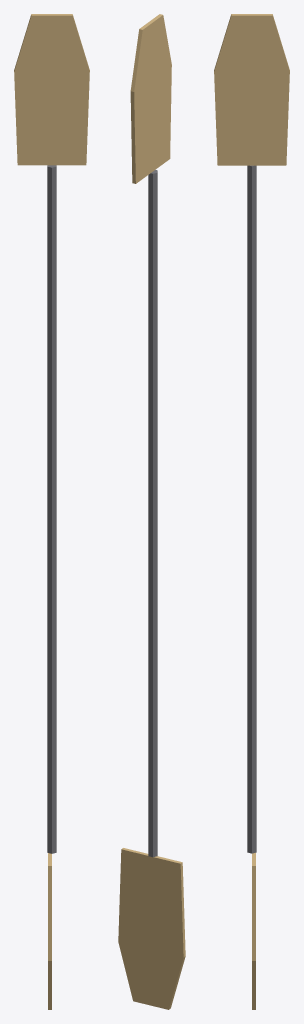
Rendered from paddledouble.glb.
3 views of the same model, side by side, from view 1: azimuth 90°, elevation 25°; view 2: azimuth 150°, elevation 25°; view 3: azimuth 270°, elevation 25° (orthographic).
Parts seen in each view (by area): view 1: PaddleDouble_blade.001, PaddleDouble_shaft, PaddleDouble_blade; view 2: PaddleDouble_blade, PaddleDouble_shaft, PaddleDouble_blade.001; view 3: PaddleDouble_blade.001, PaddleDouble_shaft, PaddleDouble_blade.
Part boxes in pixels (x1,y1,x2,y2): PaddleDouble_blade.001: (14,14,89,165); PaddleDouble_shaft: (47,165,56,853); PaddleDouble_blade: (48,853,51,1009); PaddleDouble_blade: (118,848,185,1009); PaddleDouble_shaft: (148,170,157,857); PaddleDouble_blade.001: (130,14,171,183); PaddleDouble_blade.001: (214,14,289,165); PaddleDouble_shaft: (247,165,256,853); PaddleDouble_blade: (252,852,255,1009).
Bounding box in the file's own units: 0.22 × 3.16 × 0.22.
